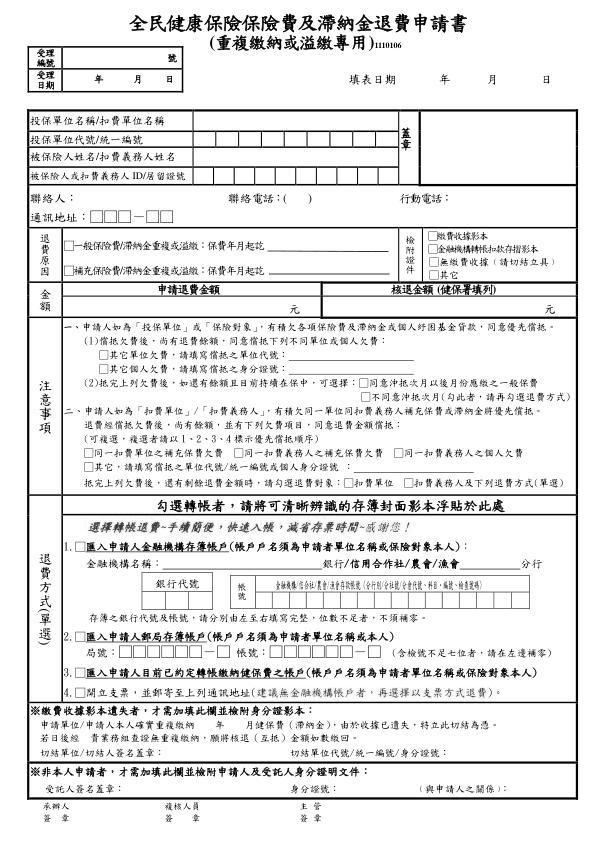table: (23, 106, 583, 801), (24, 44, 189, 97)
text: (122, 7, 475, 36), (206, 33, 410, 54), (344, 66, 402, 87), (160, 797, 202, 825), (40, 800, 75, 825), (295, 800, 323, 825), (434, 70, 452, 86), (538, 69, 554, 87), (482, 69, 498, 86)
